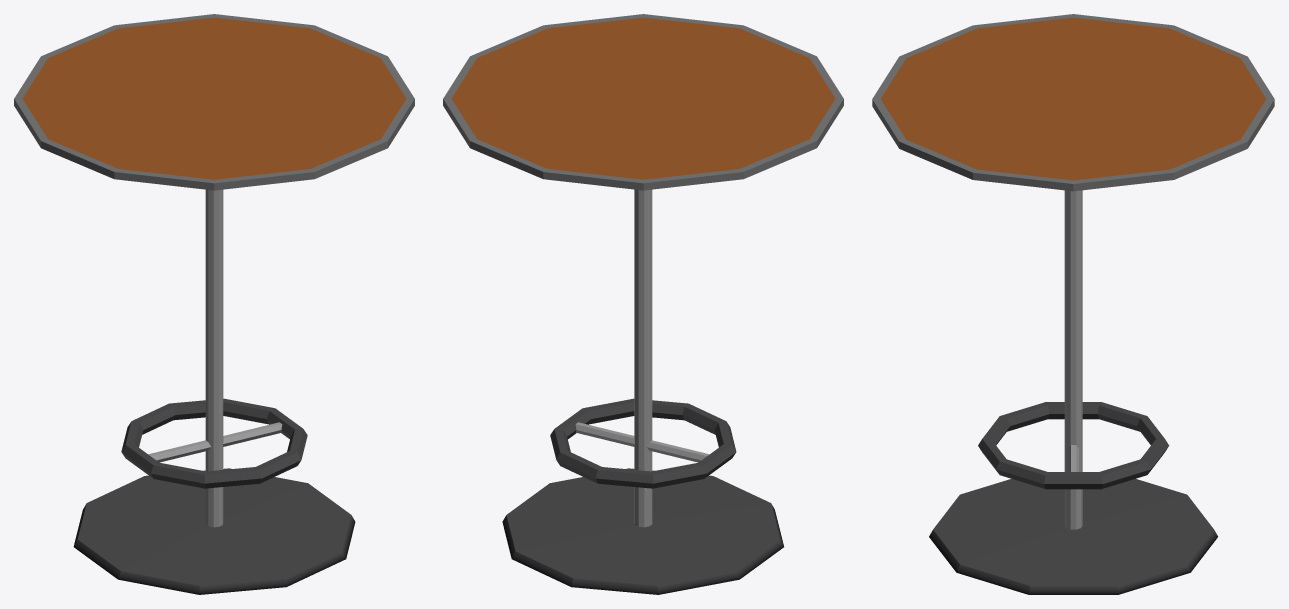
3 renders of one model, left to right at view 1: azimuth 30°, elevation 25°; view 2: azimuth 150°, elevation 25°; view 3: azimuth 270°, elevation 25°, orthographic.
Visible parts, largest first — view 1: BarTable00; view 2: BarTable00; view 3: BarTable00.
Boxes of the visible parts, left/top/right/bottom form: BarTable00: left=14, top=14, right=414, bottom=594; BarTable00: left=443, top=14, right=843, bottom=594; BarTable00: left=872, top=14, right=1274, bottom=594.
Bounding box in the file's own units: 100 × 120 × 100.
